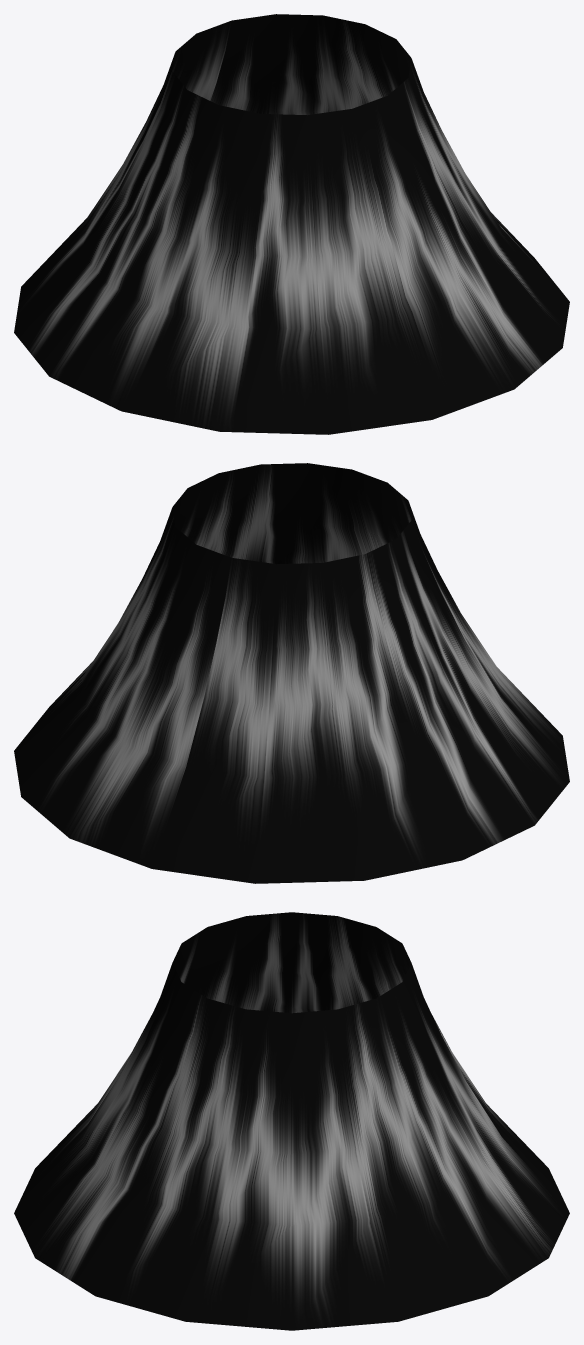
The model's file is eff_fbx_cylinder_005.fbx.
3 renders of one model, top to bottom at view 1: azimuth 30°, elevation 25°; view 2: azimuth 150°, elevation 25°; view 3: azimuth 270°, elevation 25°, orthographic.
Parts seen in each view (by area): view 1: pCylinder6; view 2: pCylinder6; view 3: pCylinder6.
Boxes of the visible parts, bbox=[...] form: pCylinder6: bbox=[14, 14, 569, 434]; pCylinder6: bbox=[14, 463, 569, 883]; pCylinder6: bbox=[14, 912, 569, 1330].
Bounding box in the file's own units: 34.96 × 17.38 × 34.96.
